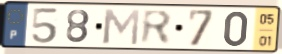0: (222, 10, 250, 48)
5: (29, 6, 60, 46)
7: (186, 8, 217, 49)
8: (64, 8, 92, 45)
M: (101, 7, 143, 47)
R: (140, 8, 174, 47)
